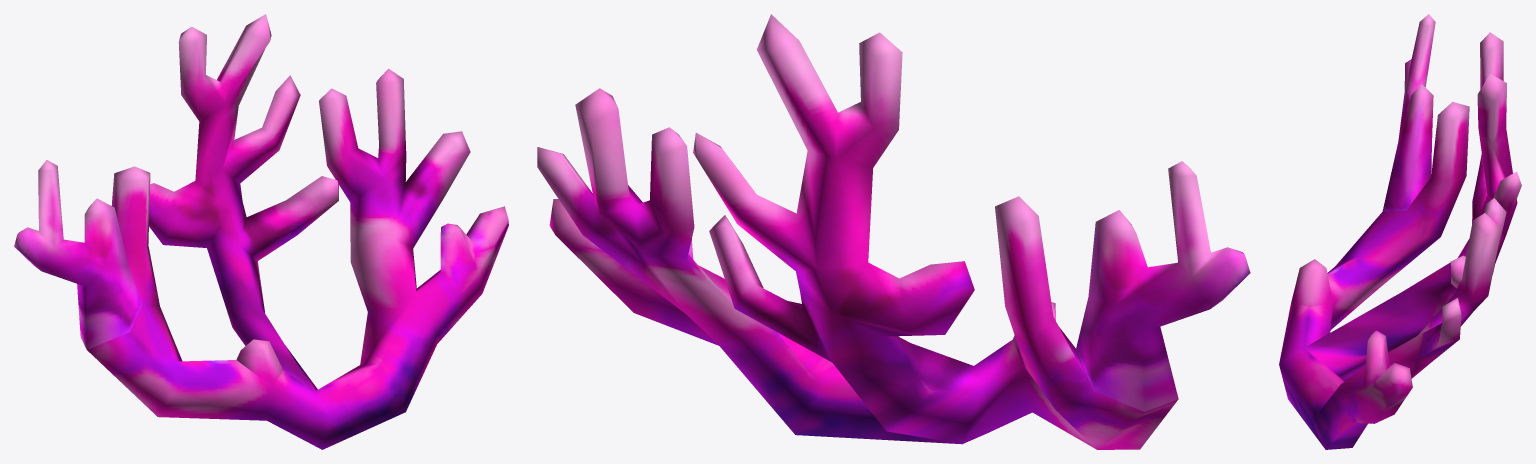
Rendered from Sea_shanhu01.FBX.
3 views of the same model, side by side, from view 1: azimuth 30°, elevation 25°; view 2: azimuth 150°, elevation 25°; view 3: azimuth 270°, elevation 25° (orthographic). The views are drawn at different scales.
Visible parts, largest first — view 1: shanhu01; view 2: shanhu01; view 3: shanhu01.
Part boxes in pixels (x1,y1,x2,y2): shanhu01: (14,14,508,449); shanhu01: (537,14,1250,449); shanhu01: (1279,14,1521,449).
Bounding box in the file's own units: 71.18 × 50.18 × 31.18.
